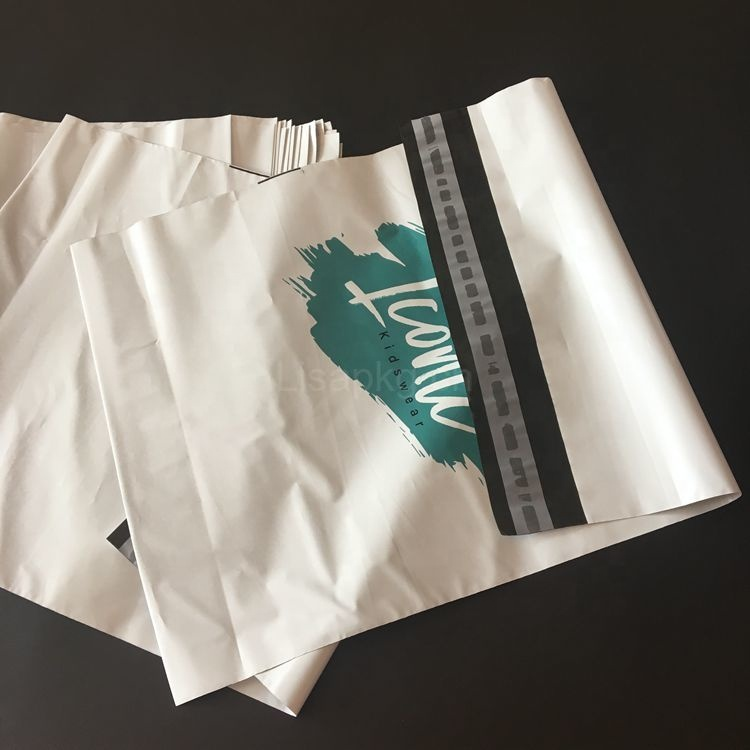塑料袋: (0, 80, 736, 713)
